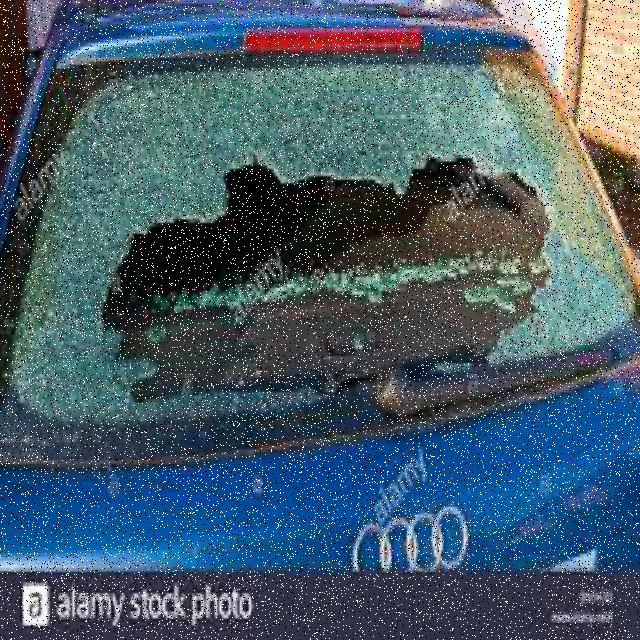Rear-windscreen-Damage: (0, 22, 638, 486)
